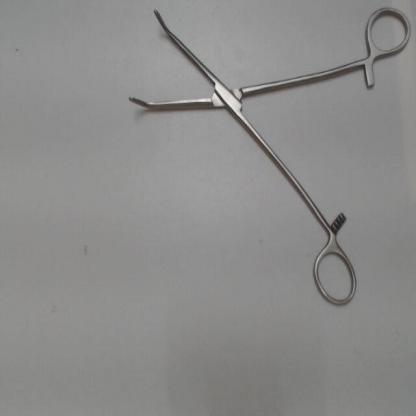Lahey Forceps: (122, 3, 412, 312)
